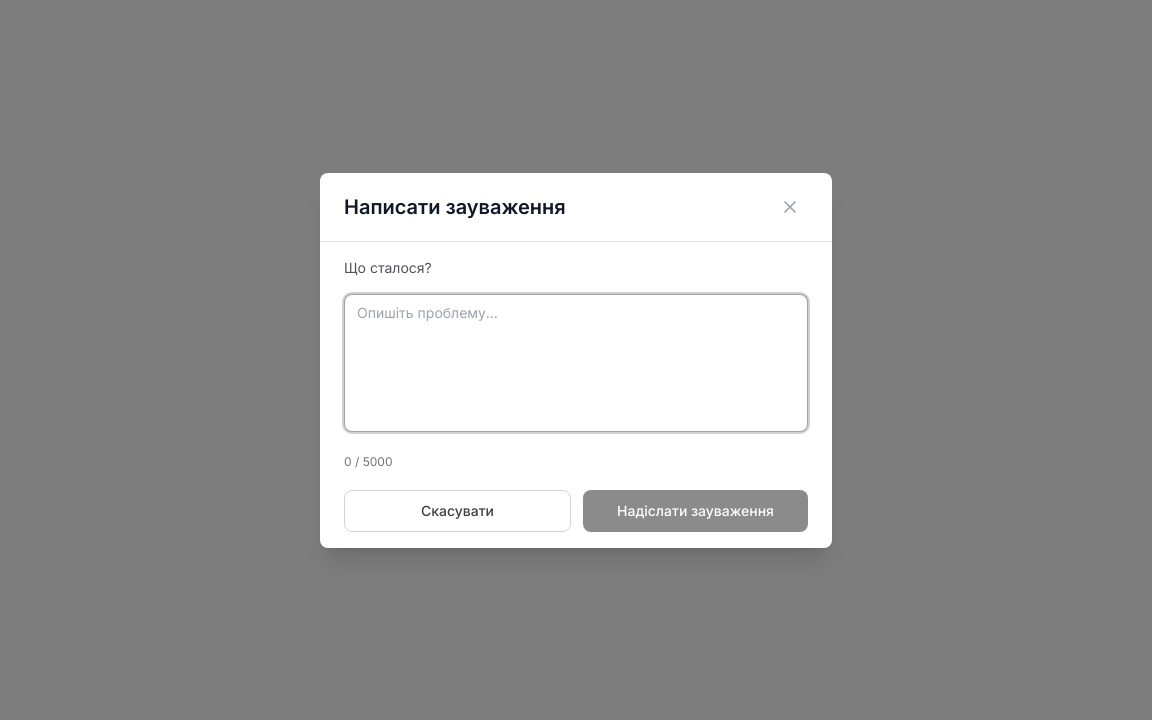
Test case: SupportContactForm › validation › updates character counter as user types
In the text box with placeholder "Опишіть проблему…": (576, 362) [344,294,808,432], type "hello"
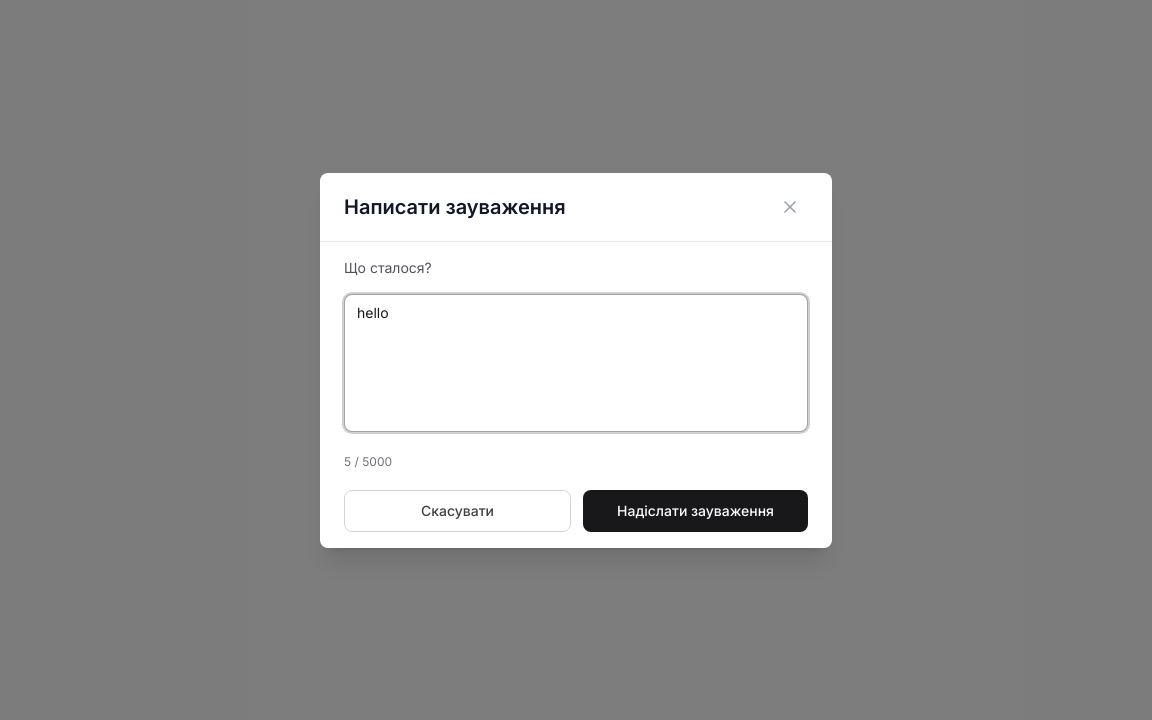
Expected: the text "5 / 5000" is shown, [344,454,392,470]
